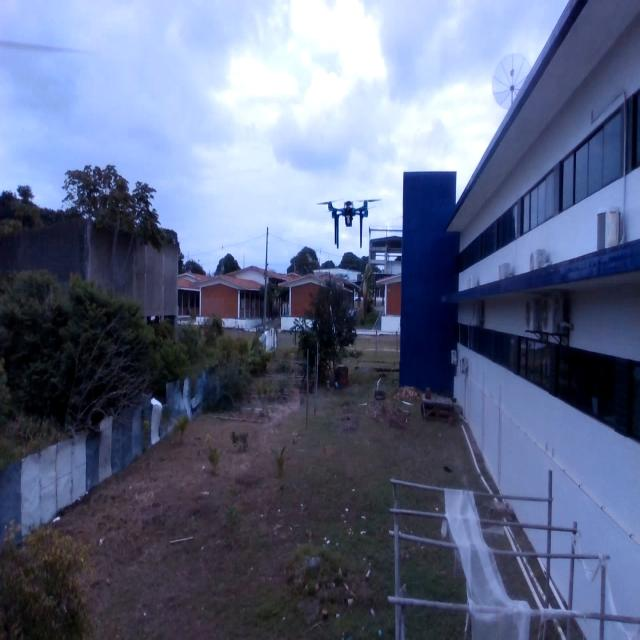-uav-: (315, 179, 393, 262)
